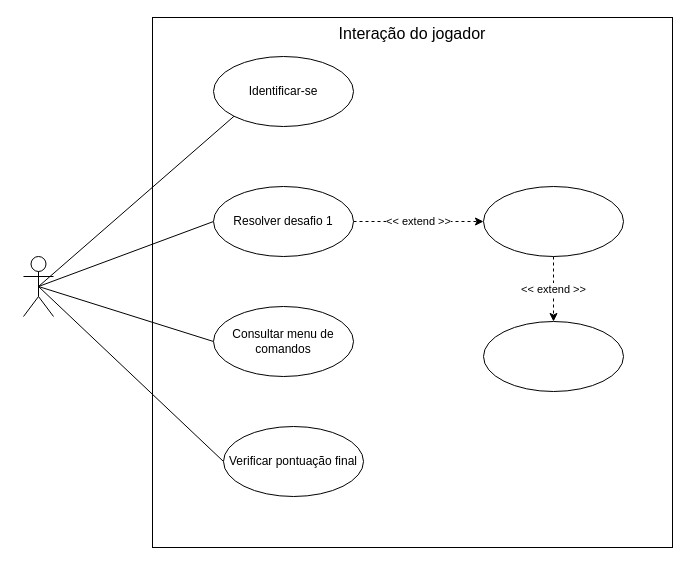
Some shapes in this 690 by 565 pixel diagram are drawn without their labels. Here are the shapes that lost their labels. From the top down, the box of each, then its label:
(482, 186, 624, 256): Resolver desafio 2
(22, 256, 54, 316): Jogador
(482, 320, 624, 392): Resolver desafio 3
